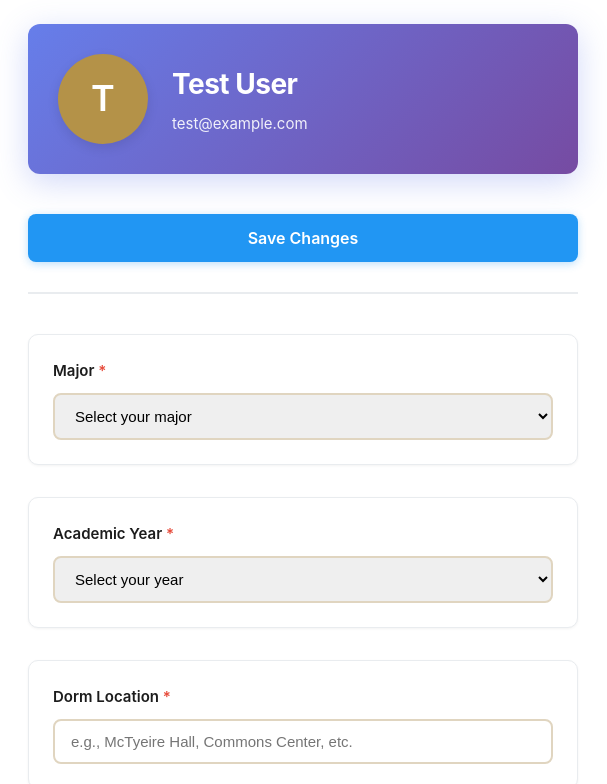
Test case: ProfilePage › prevents saving when required fields are missing
The width and height of the screenshot is (607, 784).
Click the button "Save Changes": (303, 238) x1=28 y1=214 x2=578 y2=262
(page scrolled)
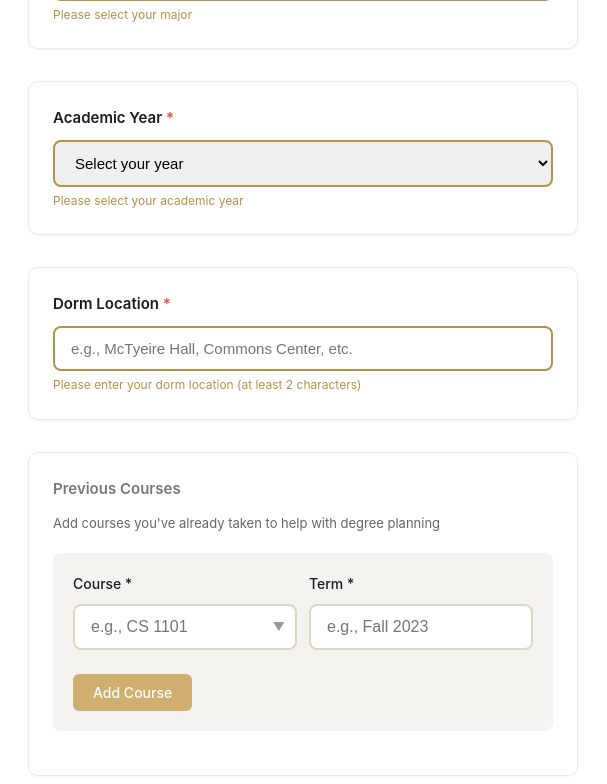
Now the text "Please select your major" is shown, box x1=53 y1=7 x2=192 y2=22
Now the text "Please select your academic year" is shown, box x1=53 y1=193 x2=244 y2=208
Now the text "Please enter your dorm location (at least 2 characters)" is shown, box x1=53 y1=377 x2=361 y2=392
